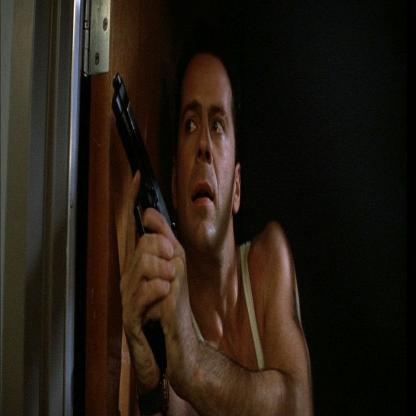gun: (111, 27, 182, 308)
